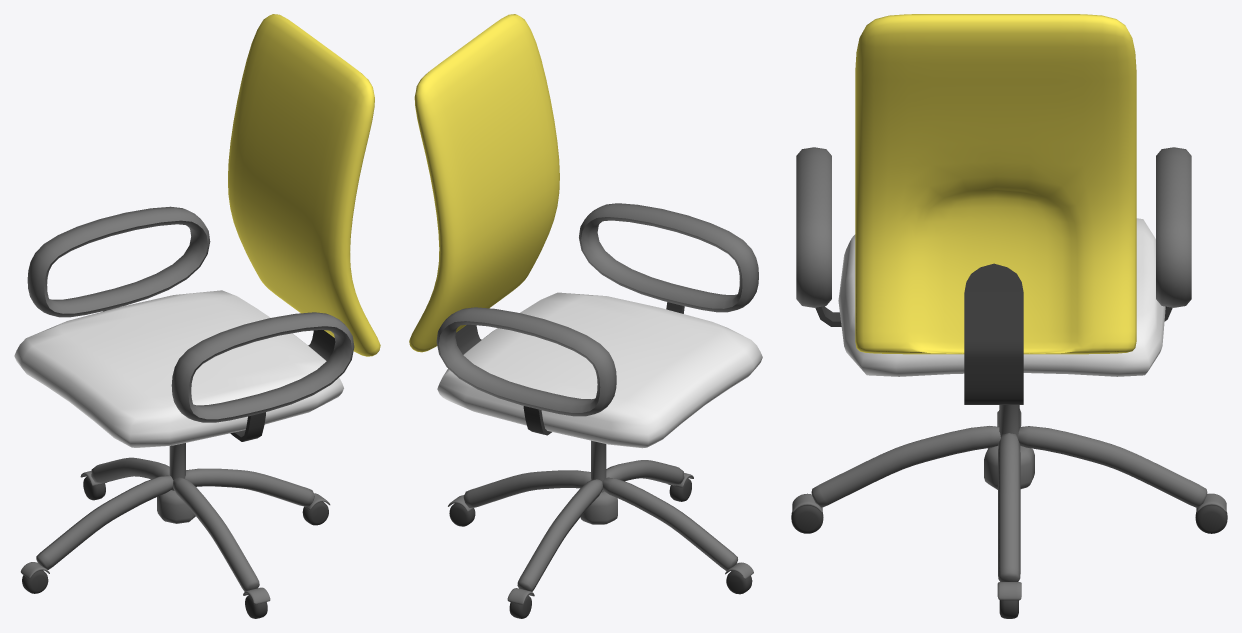
Rendered from Office Chair01.fbx.
3 views of the same model, side by side, from view 1: azimuth 30°, elevation 25°; view 2: azimuth 150°, elevation 25°; view 3: azimuth 270°, elevation 25° (orthographic). The views are drawn at different scales.
Visible parts, largest first — view 1: Office Chair01; view 2: Office Chair01; view 3: Office Chair01.
Part boxes in pixels (x1,y1,x2,y2): Office Chair01: (14, 14, 380, 618); Office Chair01: (409, 14, 762, 618); Office Chair01: (791, 14, 1227, 618).
Bounding box in the file's own units: 0.453 × 0.453 × 0.69.
